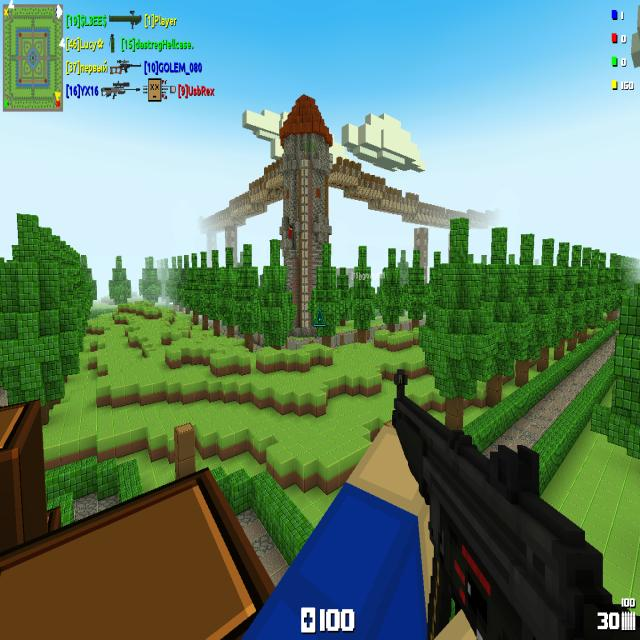enemy: (288, 224, 293, 239)
